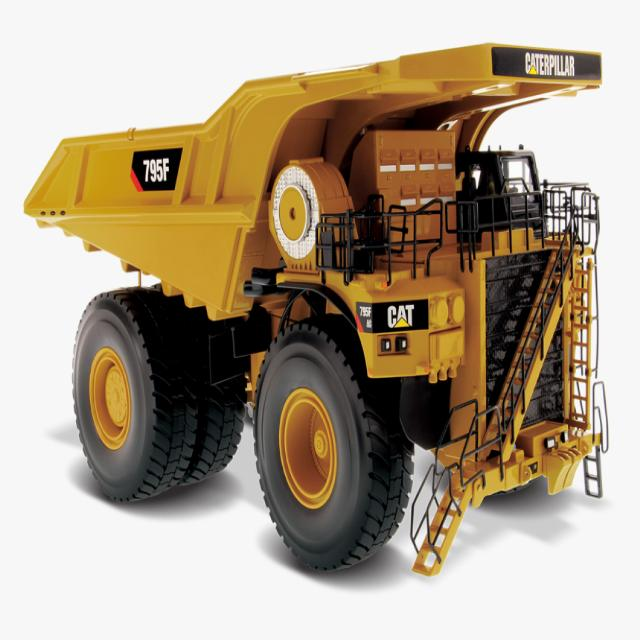dump_truck: (27, 32, 624, 586)
